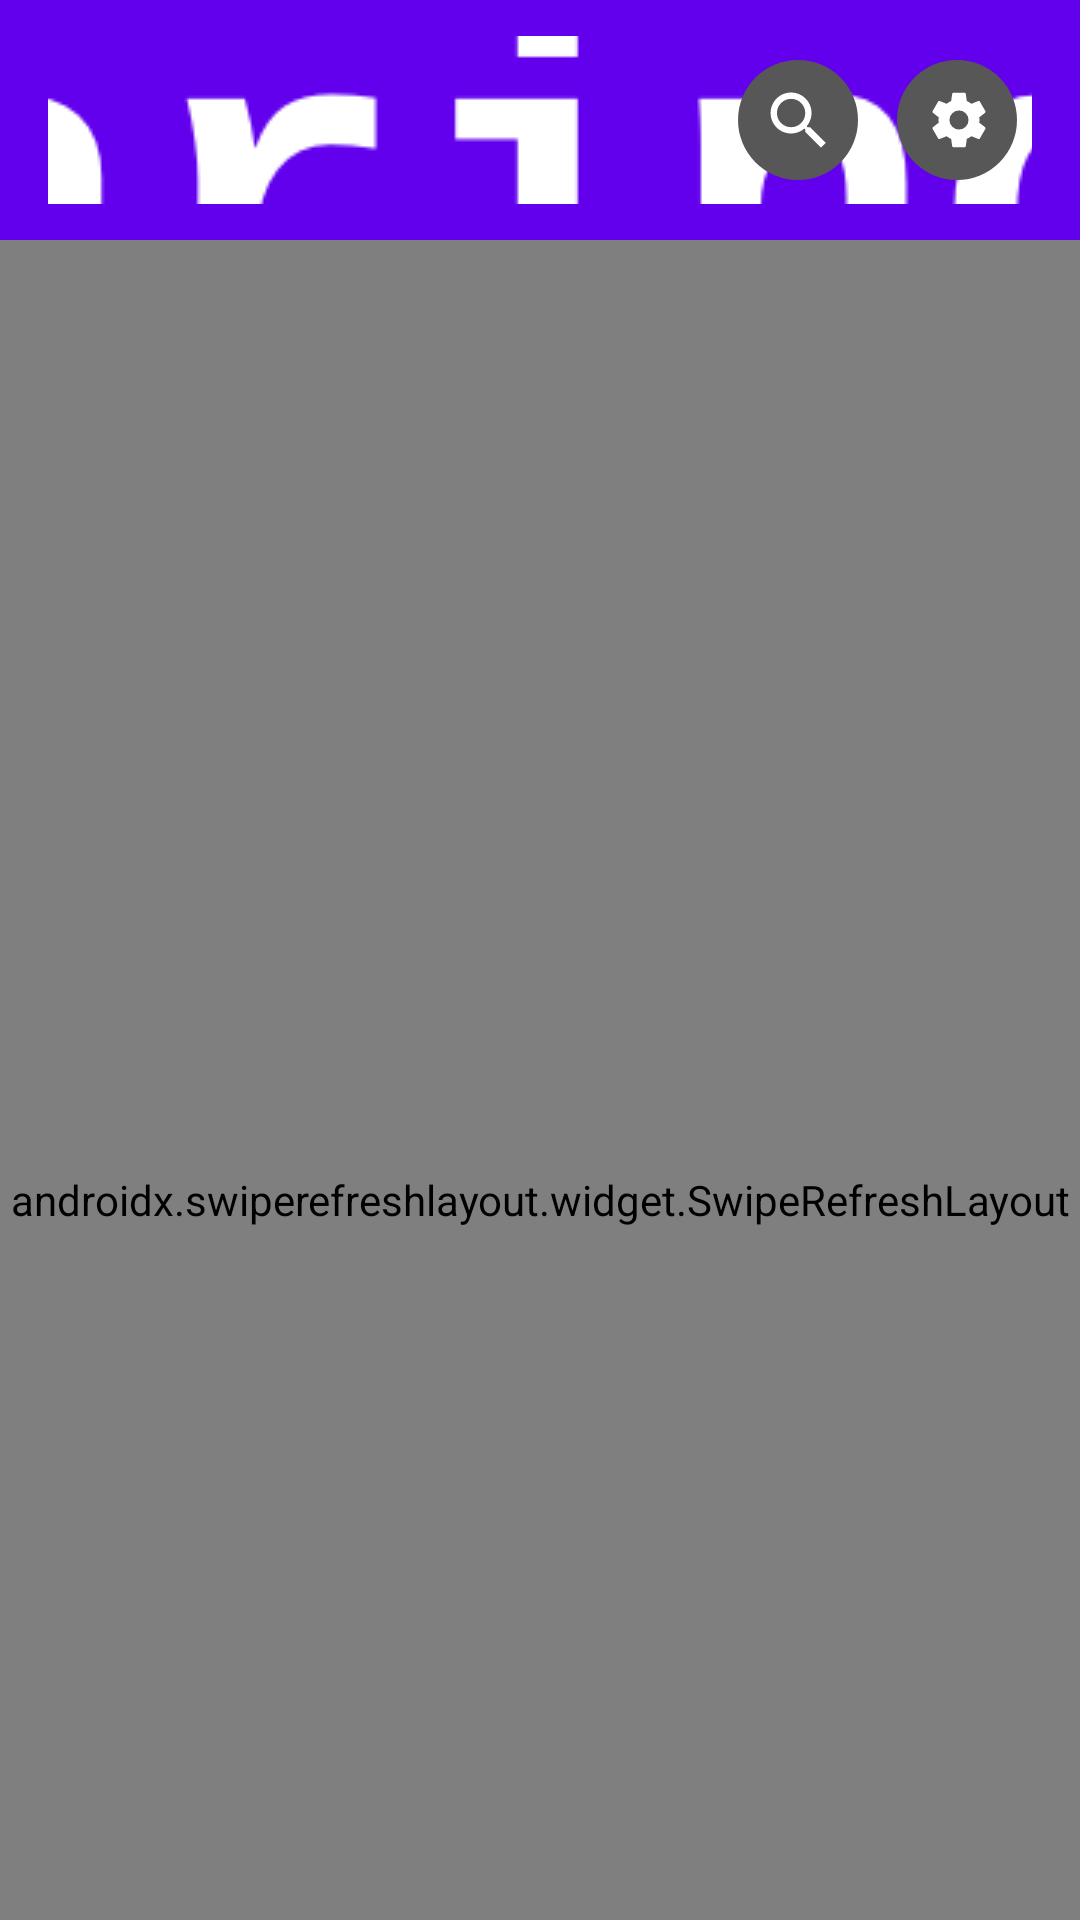

Point at icon controls on the screen. Image size 1080 × 1920, points as [x,y].
search: [798,120]
settings: [957,127]
